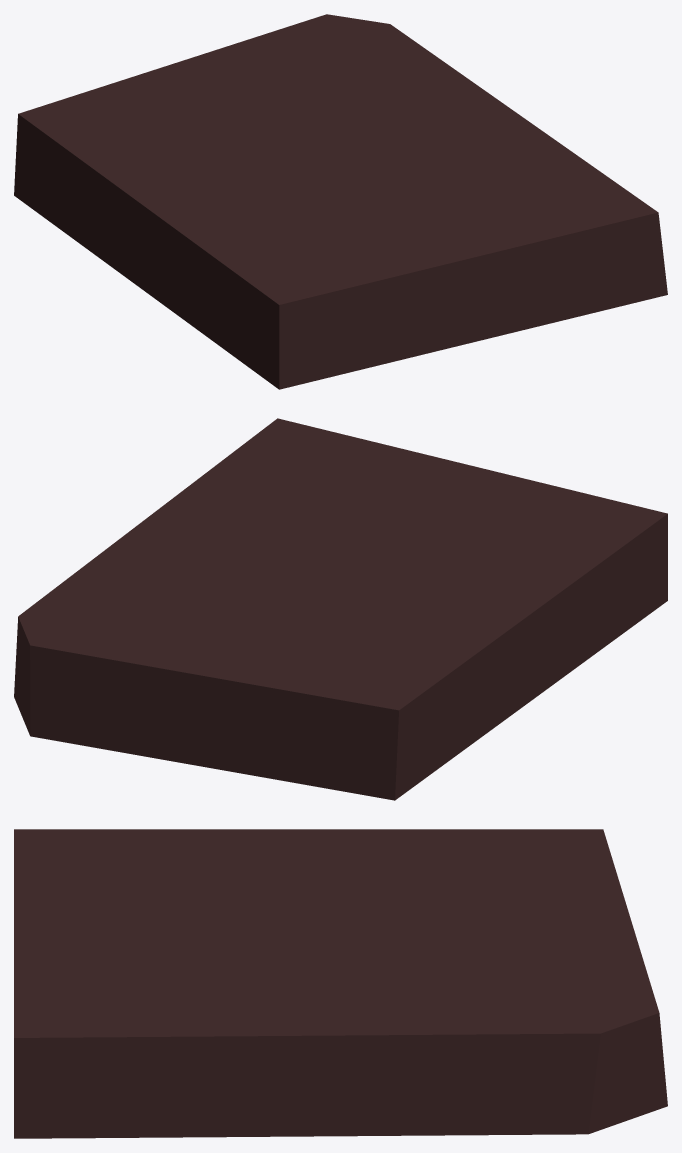
The model's file is T_SolDetruit_5.5.fbx.
3 views of the same model, one above another, from view 1: azimuth 30°, elevation 25°; view 2: azimuth 150°, elevation 25°; view 3: azimuth 270°, elevation 25° (orthographic). The views are drawn at different scales.
Visible parts, largest first — view 1: T_SolDetruit_5.5; view 2: T_SolDetruit_5.5; view 3: T_SolDetruit_5.5.
Boxes of the visible parts, left/top/right/bottom form: T_SolDetruit_5.5: left=14, top=14, right=667, bottom=389; T_SolDetruit_5.5: left=14, top=418, right=667, bottom=800; T_SolDetruit_5.5: left=14, top=829, right=667, bottom=1138.
Size of the model in its own units: 64.73 by 13.48 by 83.6.
